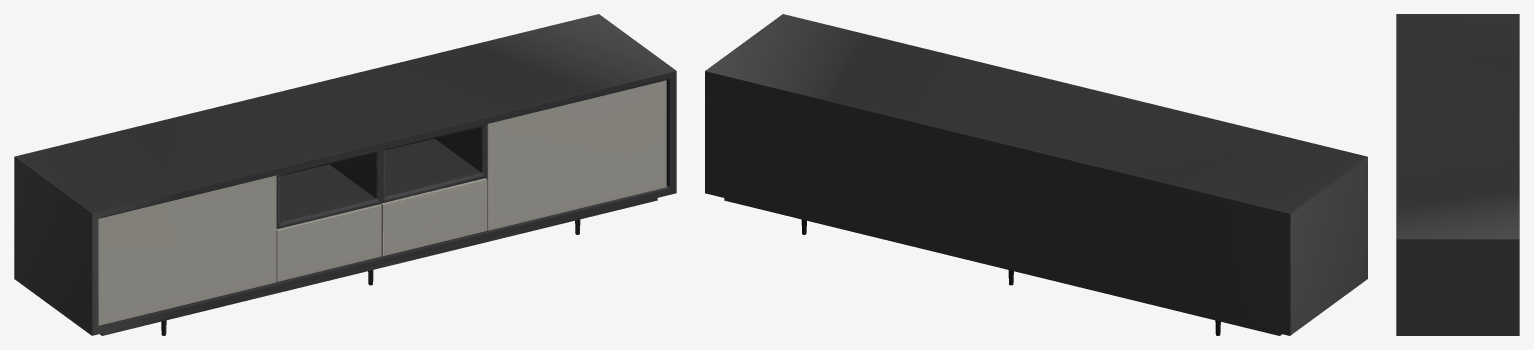
File: media_unit_floor_based_media_unit_8babeae4-884e-50fe-be0c-3fd6ba08f347.glb
3 renders of one model, left to right at view 1: azimuth 30°, elevation 25°; view 2: azimuth 150°, elevation 25°; view 3: azimuth 270°, elevation 25°, orthographic. The views are drawn at different scales.
Parts seen in each view (by area): view 1: raw_model.obj; view 2: raw_model.obj; view 3: raw_model.obj.
Part boxes in pixels (bbox=[...]): raw_model.obj: bbox=[14, 14, 676, 335]; raw_model.obj: bbox=[705, 14, 1367, 335]; raw_model.obj: bbox=[1396, 14, 1519, 335].
Size of the model in its own units: 2.6 by 0.6501 by 0.6.
Materials: 1 (1 with a texture image).
